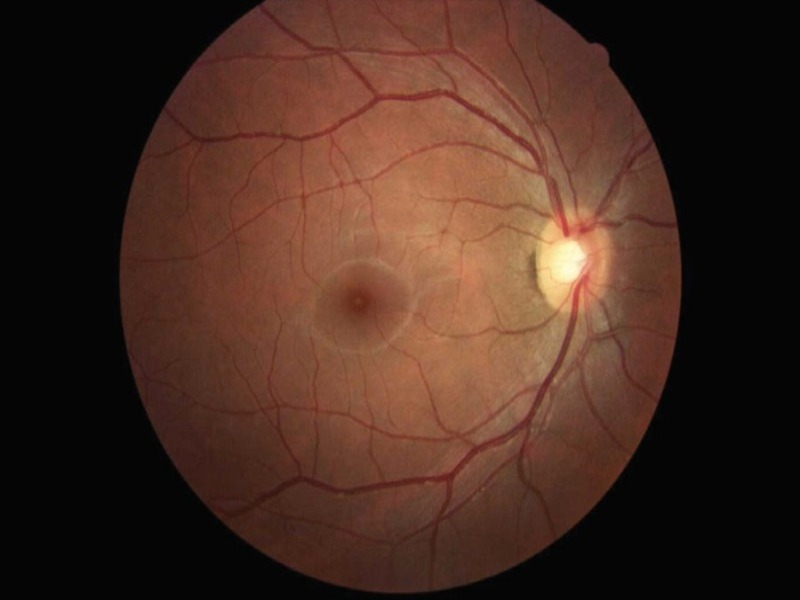Optic Cup: (547, 241, 588, 284)
Optic Disc: (537, 204, 608, 313)
